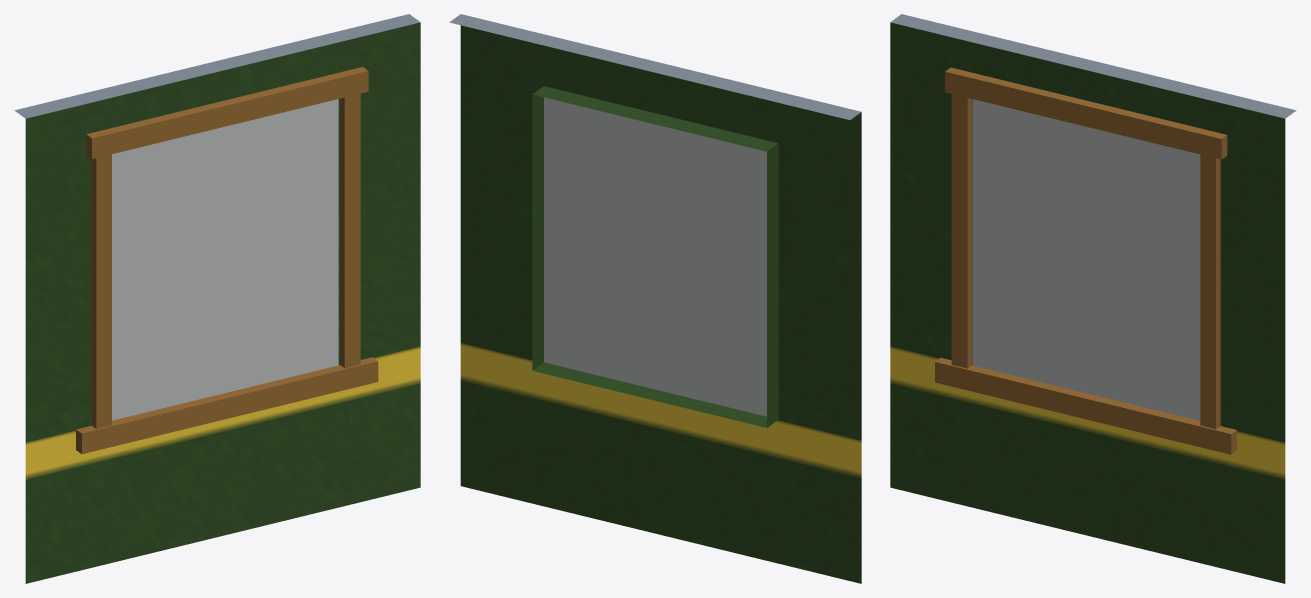
Rendered from RoomOutsideWindowWall_LoungeRoom.fbx.
3 renders of one model, left to right at view 1: azimuth 30°, elevation 25°; view 2: azimuth 150°, elevation 25°; view 3: azimuth 330°, elevation 25°, orthographic.
Parts seen in each view (by area): view 1: Wall_Window.078; view 2: Wall_Window.078; view 3: Wall_Window.078.
Boxes of the visible parts, x1,y1,x2,y2 form: Wall_Window.078: (14,14,420,583); Wall_Window.078: (449,14,861,583); Wall_Window.078: (890,14,1296,583).
Bounding box in the file's own units: 2 × 2.25 × 0.1502.
